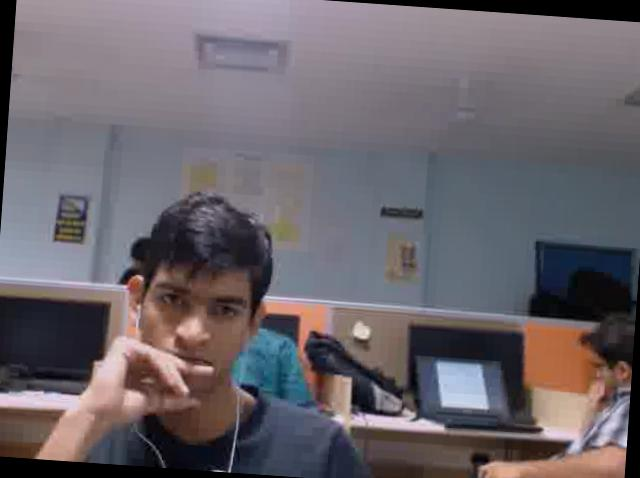bingung: (138, 249, 258, 395)
